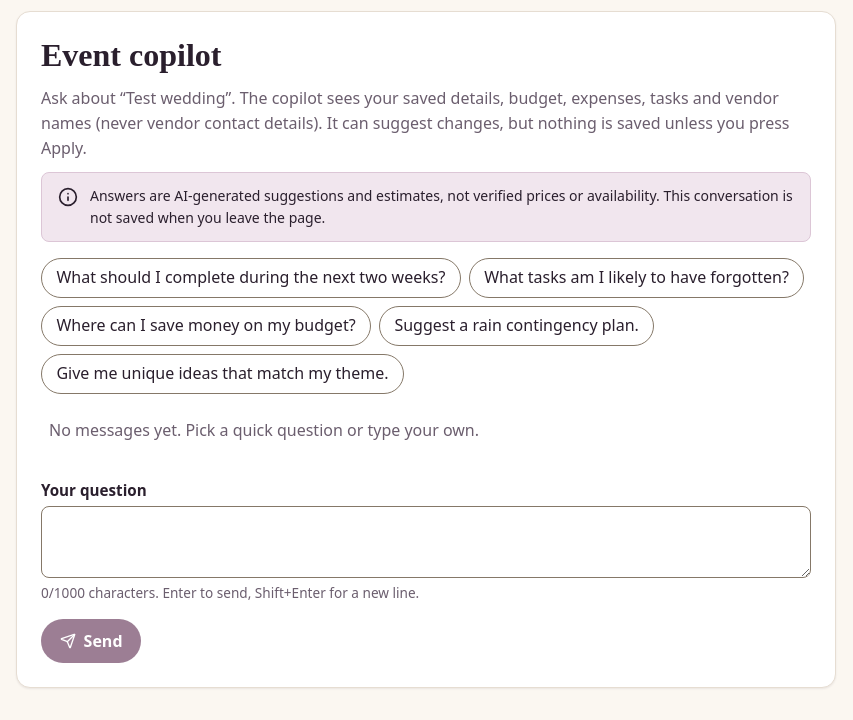
Test case: Copilot tab › lets the user dismiss a proposal without any change
(page scrolled)
Step 1. Type "Decoration budget grew" into the text box labelled "Your question" → (426, 542), box x1=41 y1=506 x2=811 y2=578
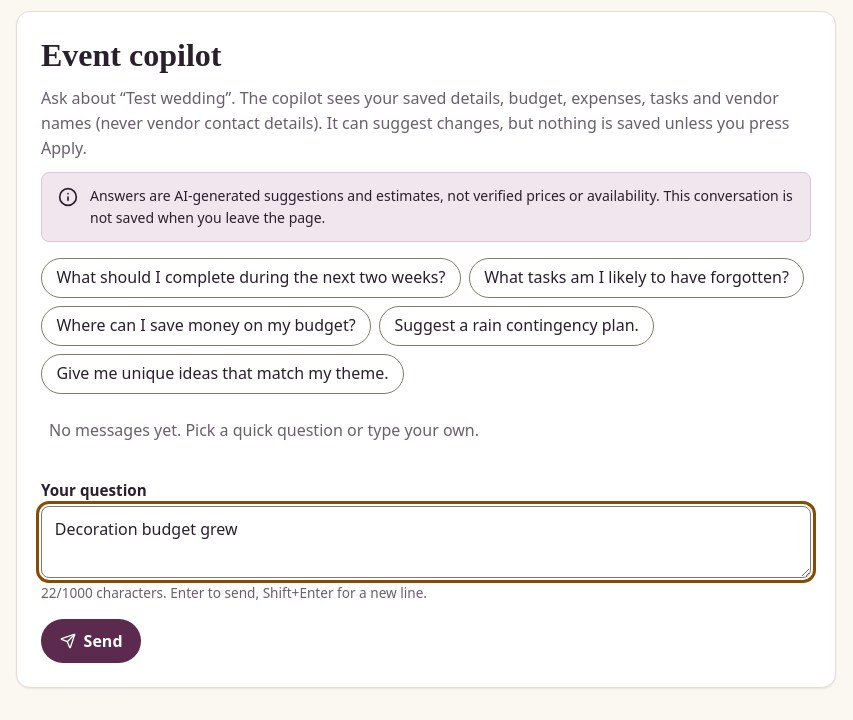
Step 2. Click the button "Send" → (91, 641), box x1=41 y1=619 x2=141 y2=663
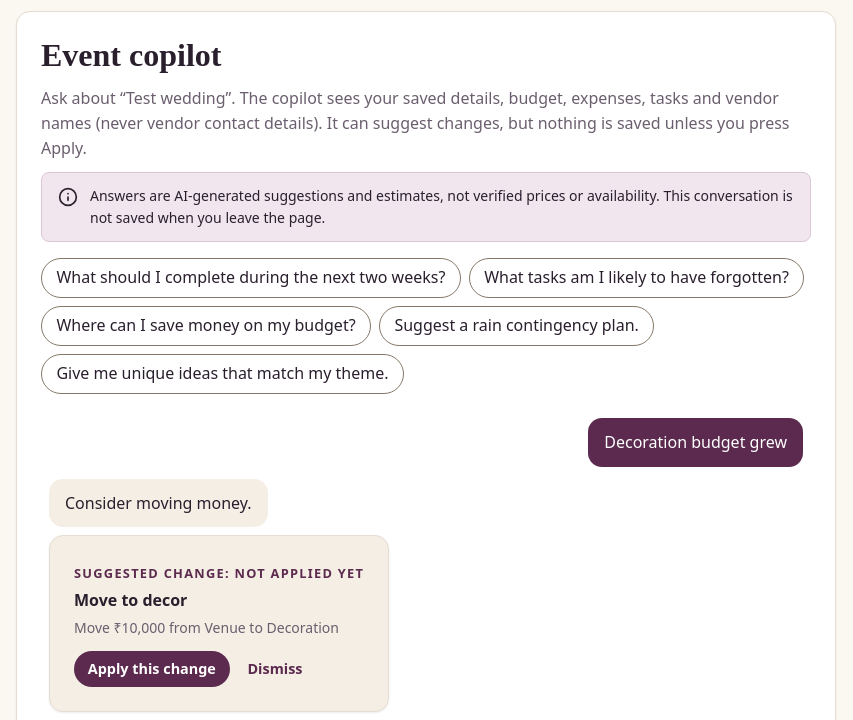
Step 3. Click the button "Dismiss" → (275, 669), box x1=234 y1=651 x2=316 y2=687
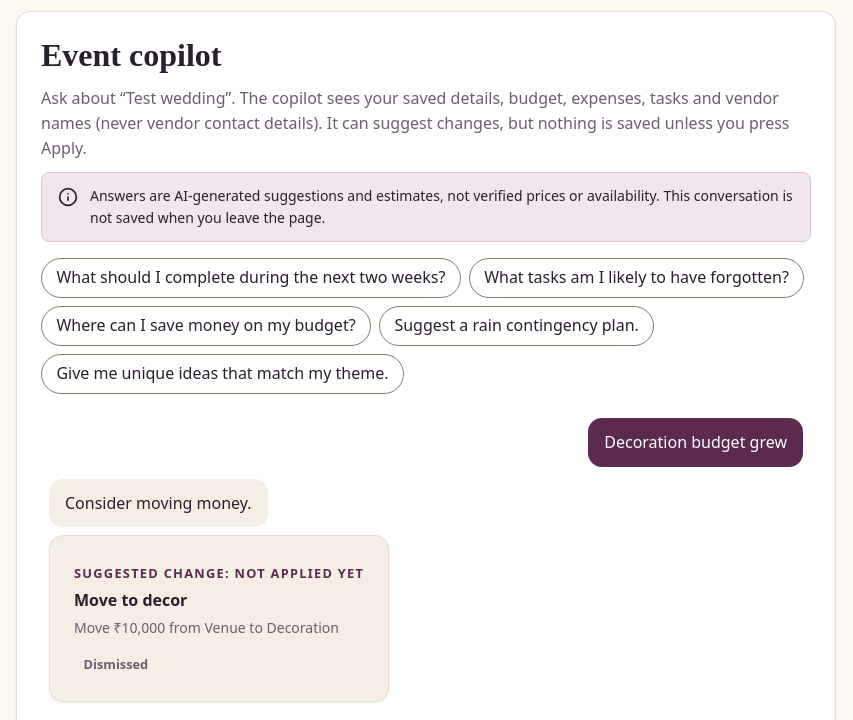
Expected: the text "Dismissed" is shown, x1=74 y1=652 x2=158 y2=677
